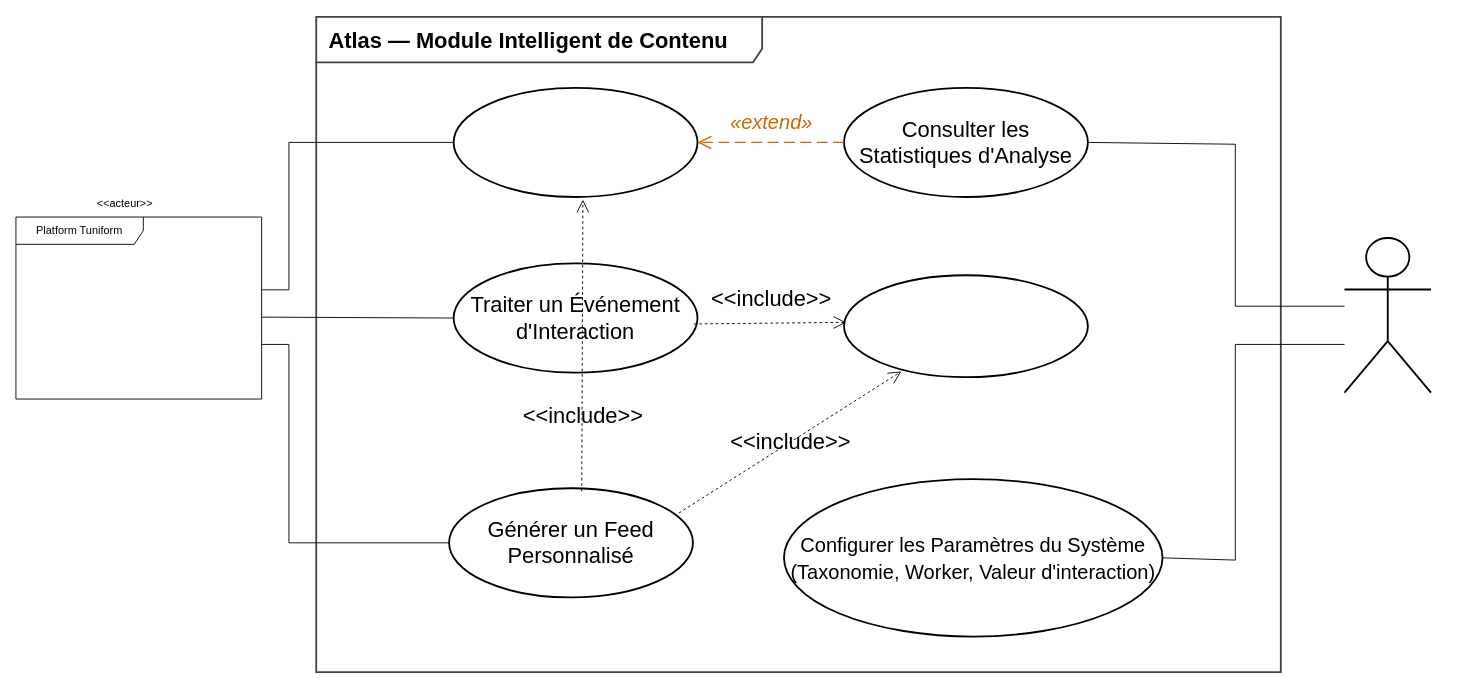
This 1468x688 diagram has some shape labels left out. Each missing label, with the centre of its shape:
Administrateur Système: [1387,315]
Analyser et Enrichir un Contenu: [575,141]
Mettre à Jour le Profil Utilisateur: [965,326]
